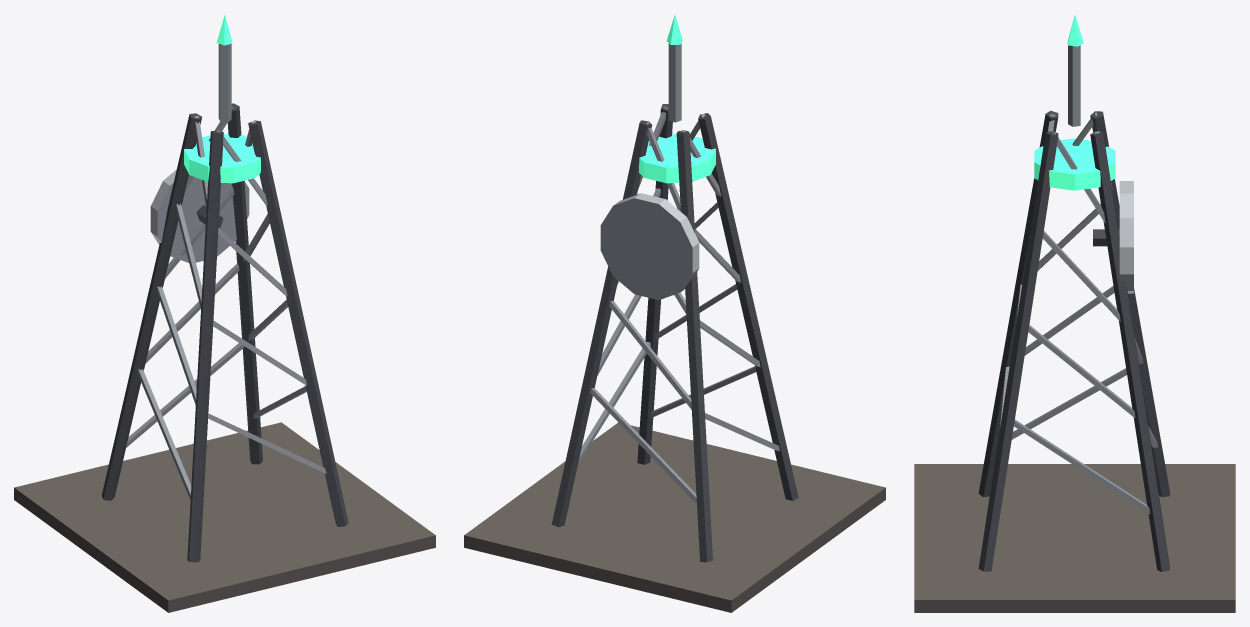
The model's file is relay.glb.
3 views of the same model, side by side, from view 1: azimuth 30°, elevation 25°; view 2: azimuth 150°, elevation 25°; view 3: azimuth 270°, elevation 25° (orthographic). The views are drawn at different scales.
Parts seen in each view (by area): view 1: relay; view 2: relay; view 3: relay.
Boxes of the visible parts, bbox=[...] form: relay: bbox=[14, 15, 435, 612]; relay: bbox=[464, 15, 885, 612]; relay: bbox=[914, 15, 1235, 612].
Size of the model in its own units: 1.8 by 3.28 by 1.8.
